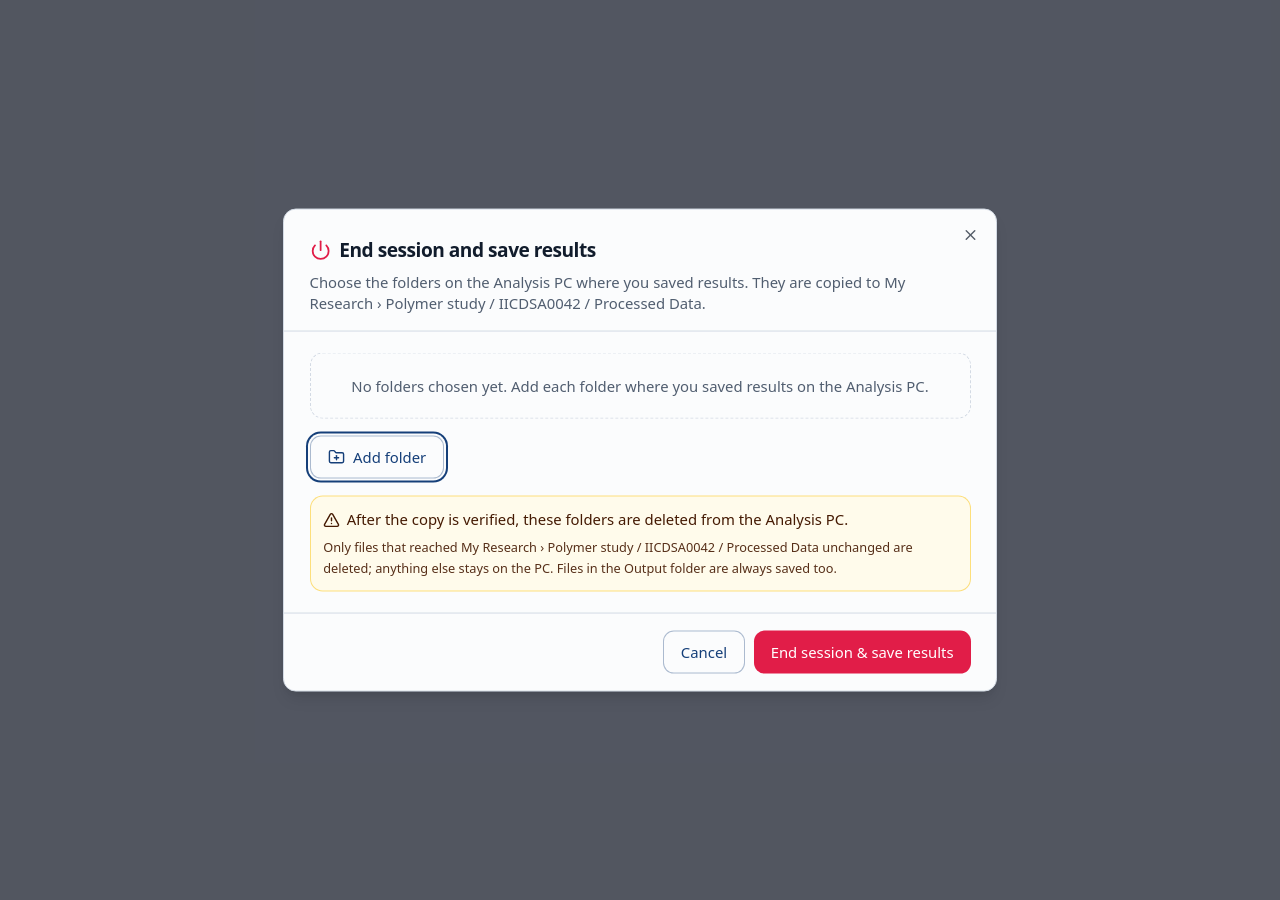
Test: EndSessionDialog › shows the Analysis PC's error and keeps the dialog usable
The image size is (1280, 900).
Click the button "Add folder" at coordinates (377, 457), box [310,436,444,478]
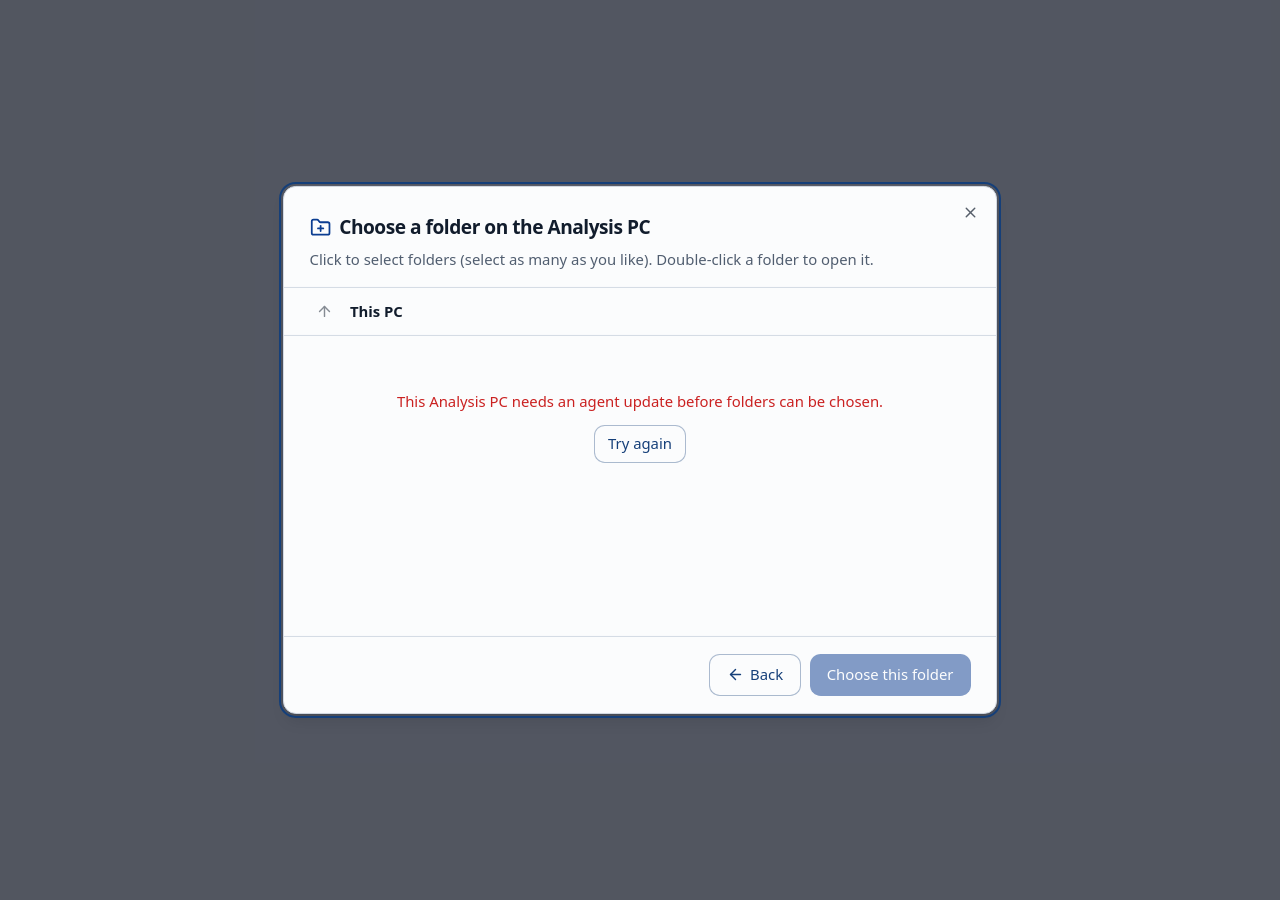
Expected: the message shows "needs an agent update", [397,391,883,411]
Click the button "Back" at coordinates (755, 675), box [709,654,801,696]
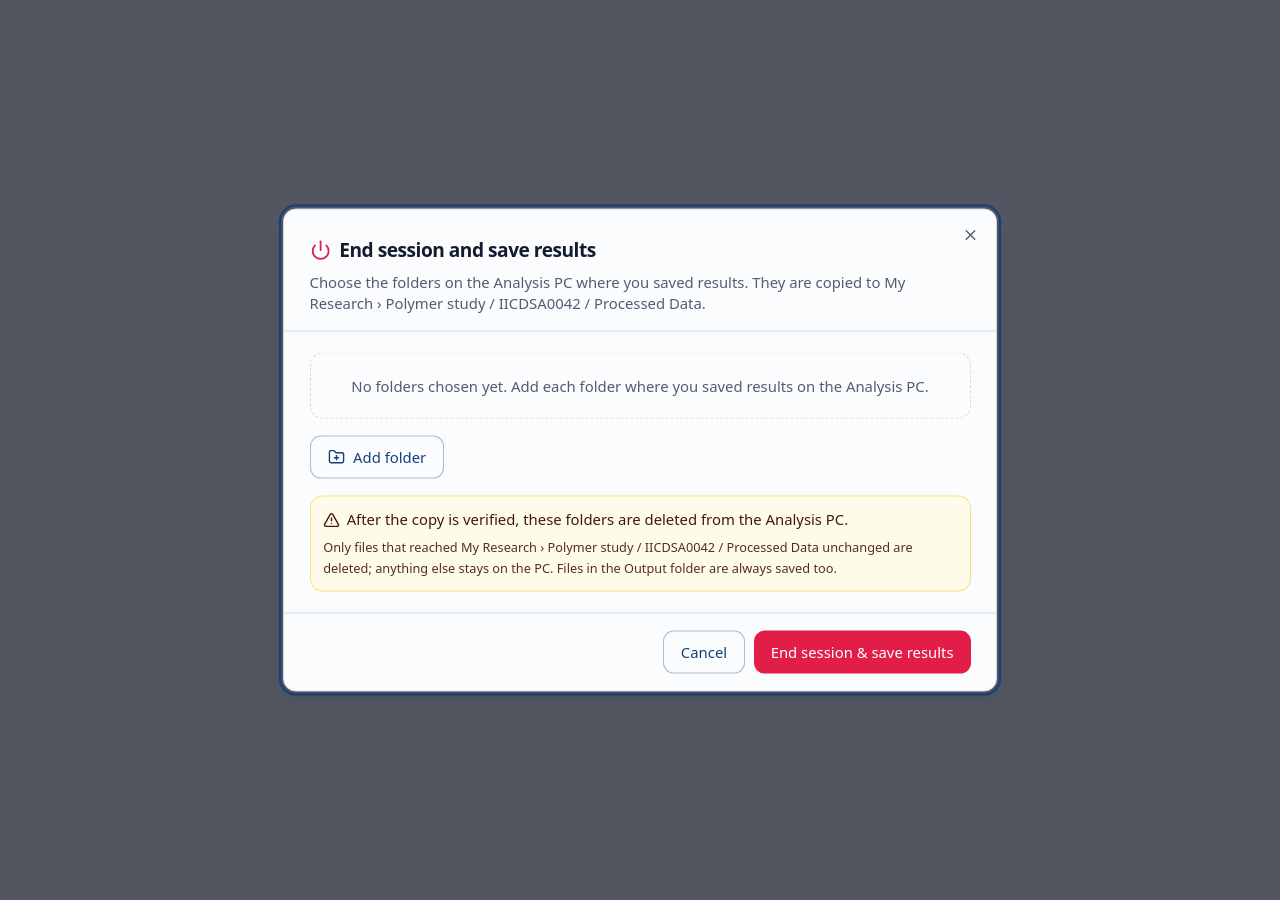
Expected: the button "End session & save results" is enabled, [754,631,970,674]
